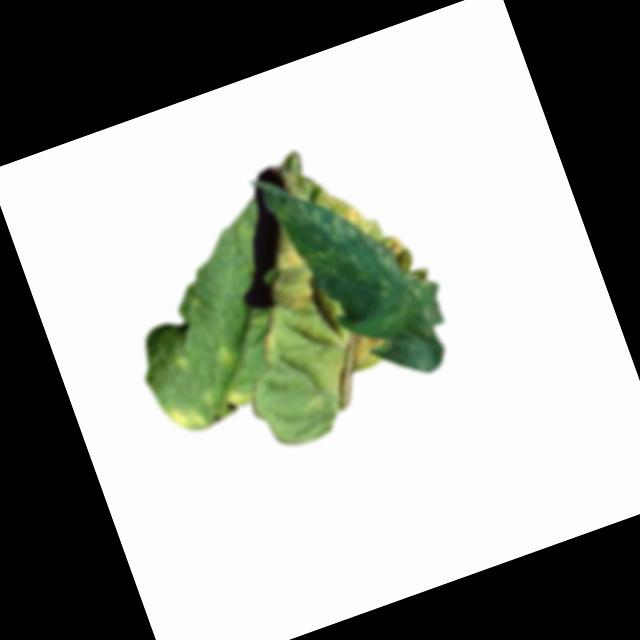Leaf_Mold: (309, 160, 417, 295), (255, 230, 323, 323), (333, 318, 394, 374), (246, 309, 291, 366), (164, 392, 210, 438), (219, 378, 256, 413), (208, 337, 243, 369)
